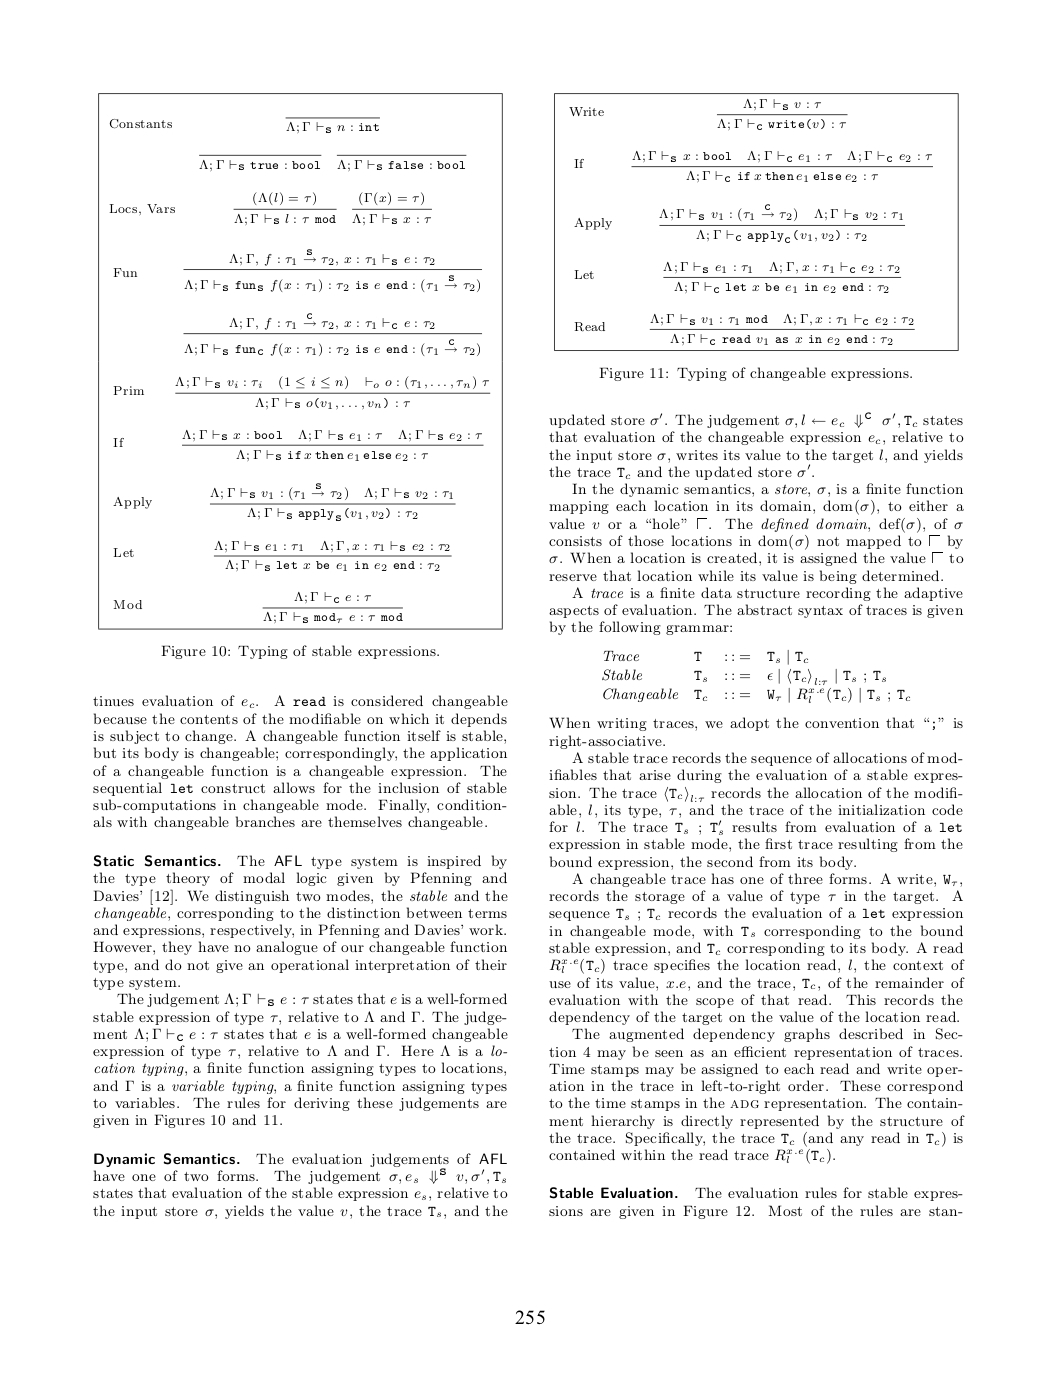figure: (98, 92, 502, 630), (554, 92, 958, 351)
formula: (602, 668, 911, 703), (603, 647, 808, 665)
